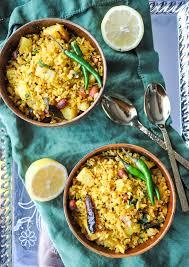poha: (66, 146, 171, 255), (5, 20, 105, 120)
